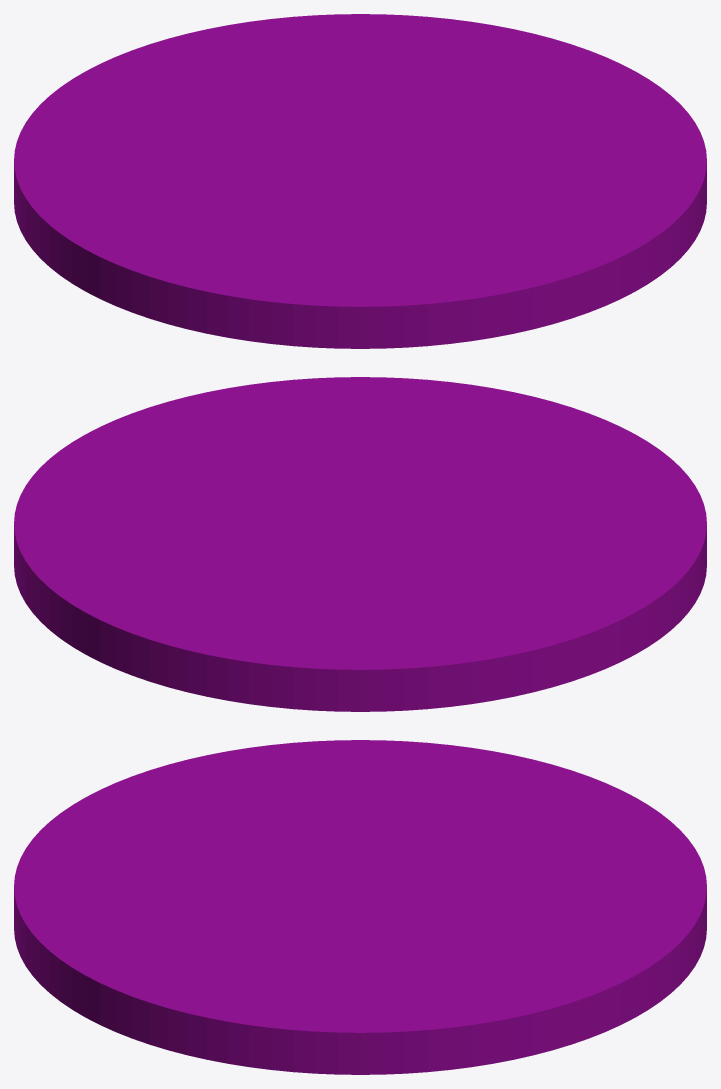
File: si-keilat-1-5-uniryyn-Alusta10.fbx
3 views of the same model, one above another, from view 1: azimuth 30°, elevation 25°; view 2: azimuth 150°, elevation 25°; view 3: azimuth 270°, elevation 25° (orthographic).
Visible parts, largest first — view 1: Cylinder.023; view 2: Cylinder.023; view 3: Cylinder.023.
Part boxes in pixels (x1,y1,x2,y2): Cylinder.023: [14, 14, 706, 348]; Cylinder.023: [14, 377, 706, 711]; Cylinder.023: [14, 740, 706, 1074].
Size of the model in its own units: 448 by 30 by 448.
